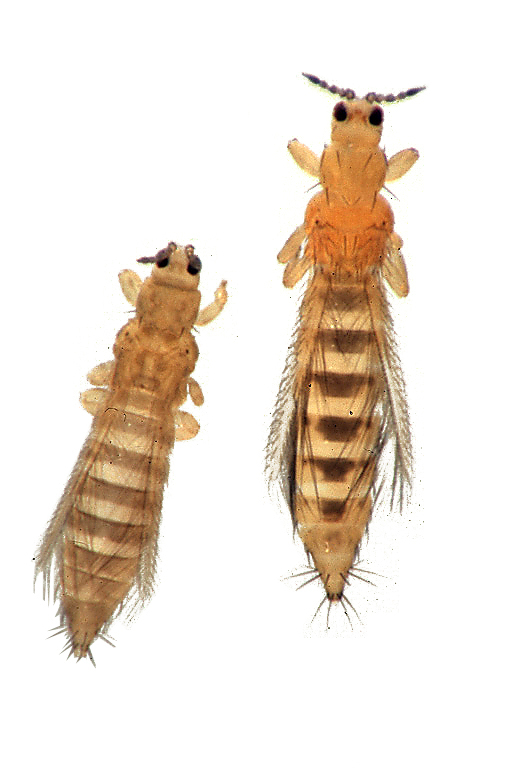Thrips: (260, 50, 469, 649), (15, 223, 238, 671)
